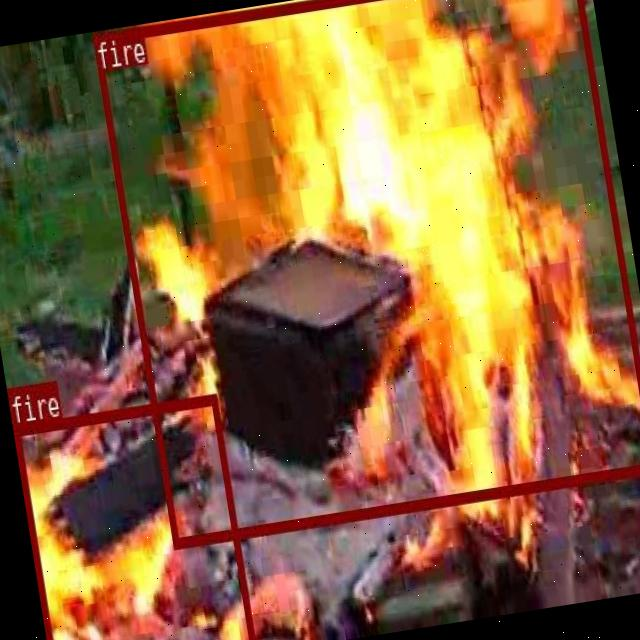fire: (92, 0, 640, 547), (13, 394, 255, 640)
